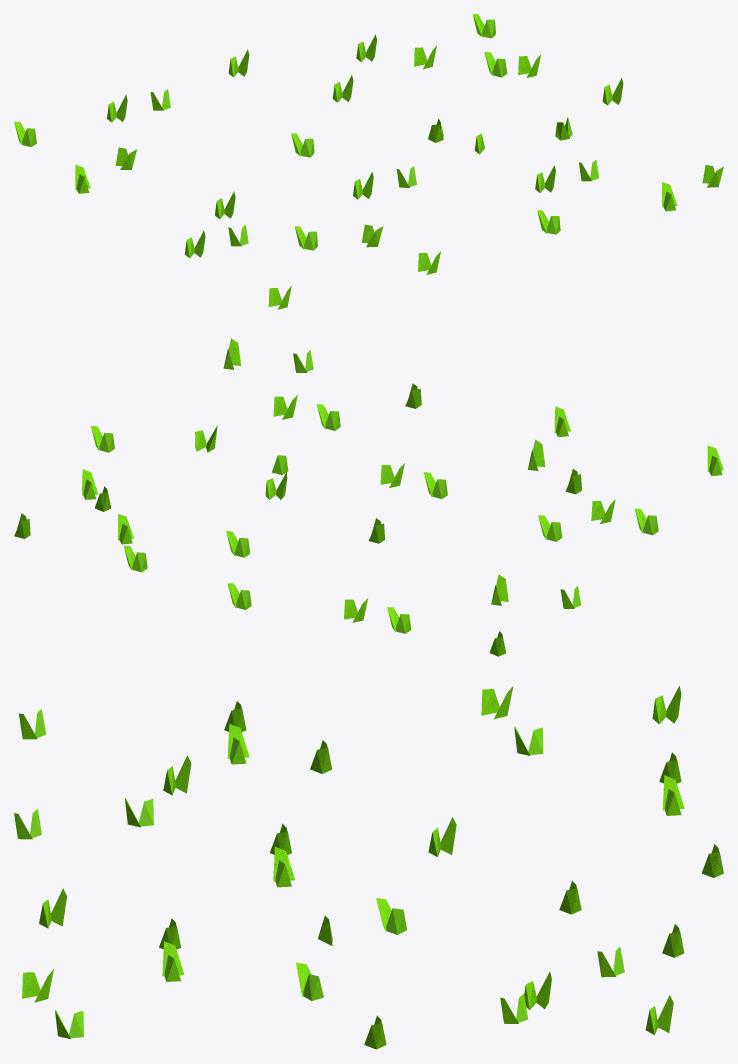
The model's file is Grass_Tuft_Square_01.fbx.
The picture shows the model from 3 angles, top to bottom: view 1: azimuth 30°, elevation 25°; view 2: azimuth 150°, elevation 25°; view 3: azimuth 270°, elevation 25°; orthographic projection. The views are drawn at different scales.
Parts seen in each view (by area): view 1: Model; view 2: Model; view 3: Model.
Part boxes in pixels (x1,y1,x2,y2): Model: (14, 14, 723, 309); Model: (14, 338, 723, 656); Model: (14, 685, 723, 1049).
Bounding box in the file's own units: 1130 × 49.56 × 992.
